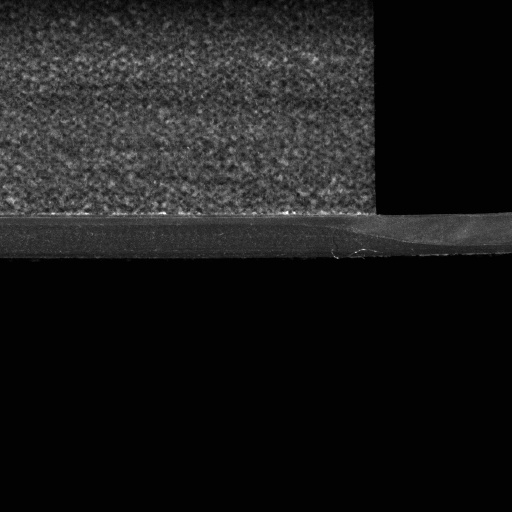changdai: (374, 211, 511, 260)
